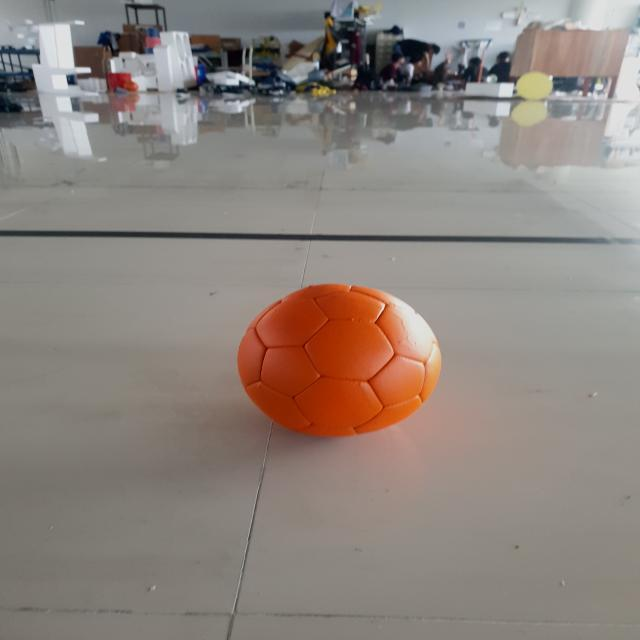bola: (227, 271, 449, 445)
